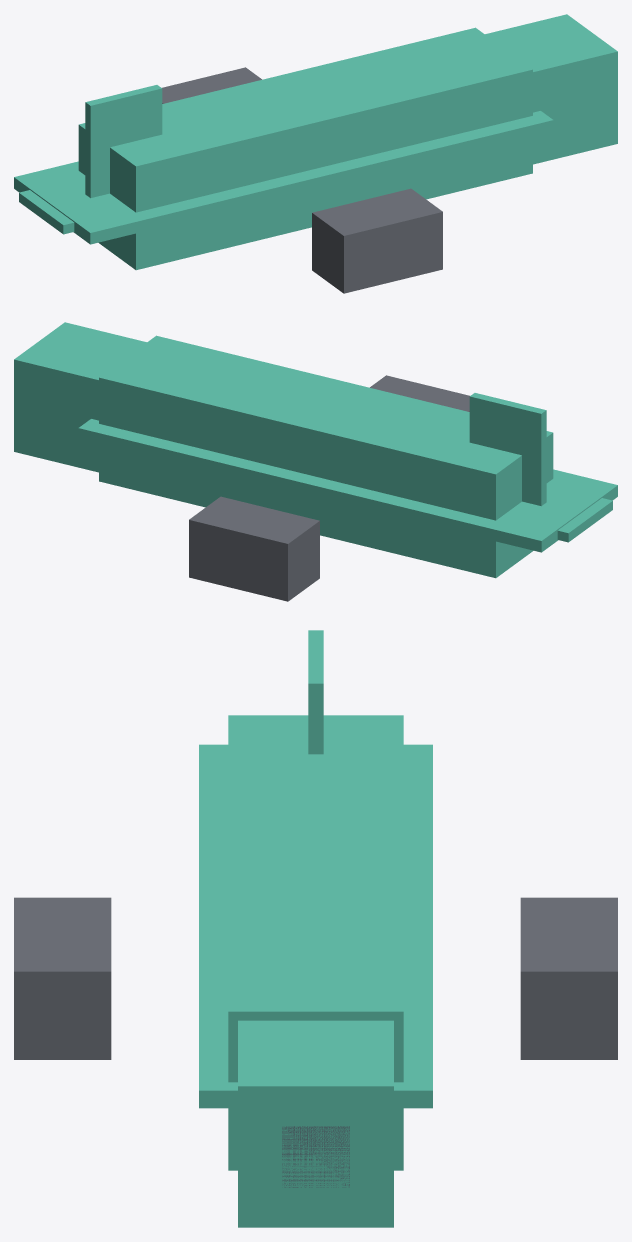
The model's file is bomber_buy.glb.
3 renders of one model, top to bottom at view 1: azimuth 30°, elevation 25°; view 2: azimuth 150°, elevation 25°; view 3: azimuth 270°, elevation 25°, orthographic. The views are drawn at different scales.
Parts seen in each view (by area): view 1: body; view 2: body; view 3: body.
Part boxes in pixels (bbox=[...]): body: bbox=[14, 14, 617, 293]; body: bbox=[14, 322, 617, 601]; body: bbox=[14, 630, 617, 1227].
Size of the model in its own units: 10 by 2.7 by 6.2.
